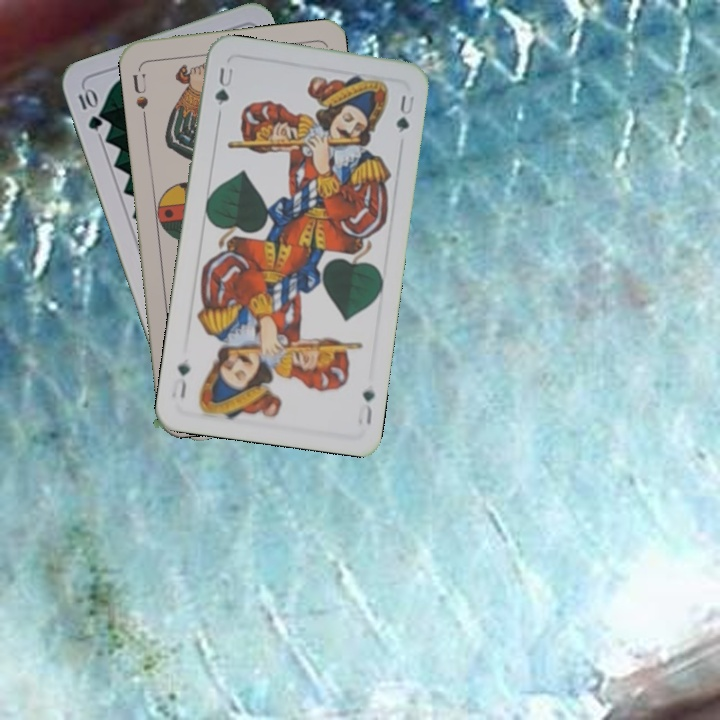G10: (74, 84, 105, 133)
GU: (211, 63, 236, 108), (353, 385, 378, 428)
SU: (128, 70, 151, 123)
